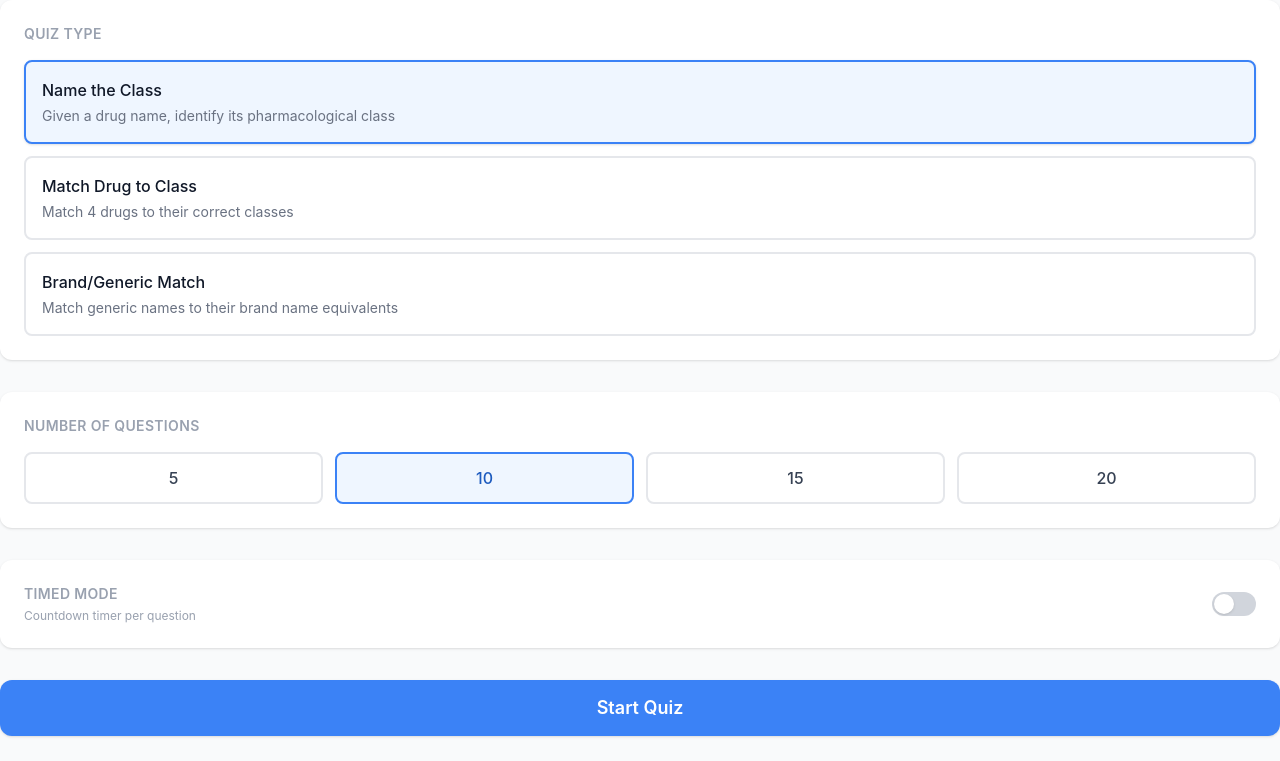
QuizConfig › enables timed mode and shows time limit options
Click the switch named "Toggle timed mode" at (1234, 604), box [1212, 592, 1256, 616]
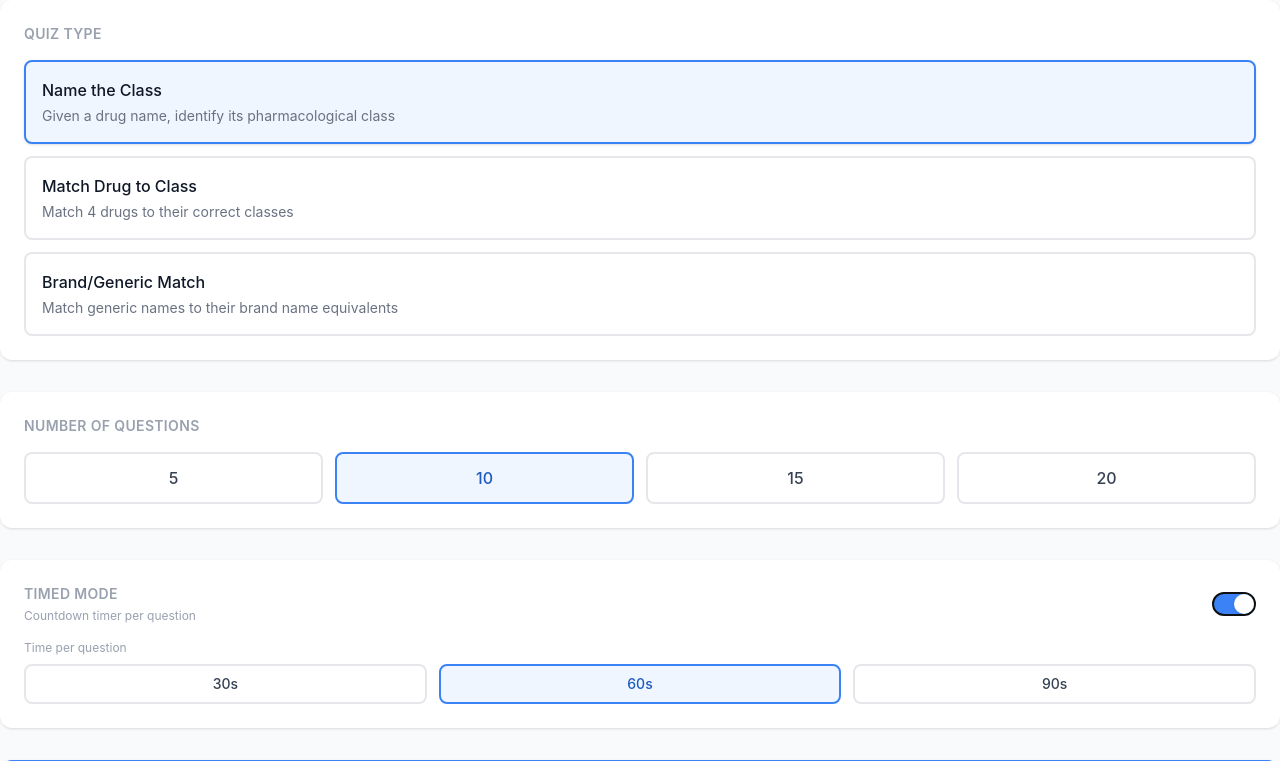
expect the button "30s" is shown: met, box [24, 664, 427, 704]
expect the button "60s" is shown: met, box [439, 664, 841, 704]
expect the button "90s" is shown: met, box [853, 664, 1256, 704]
